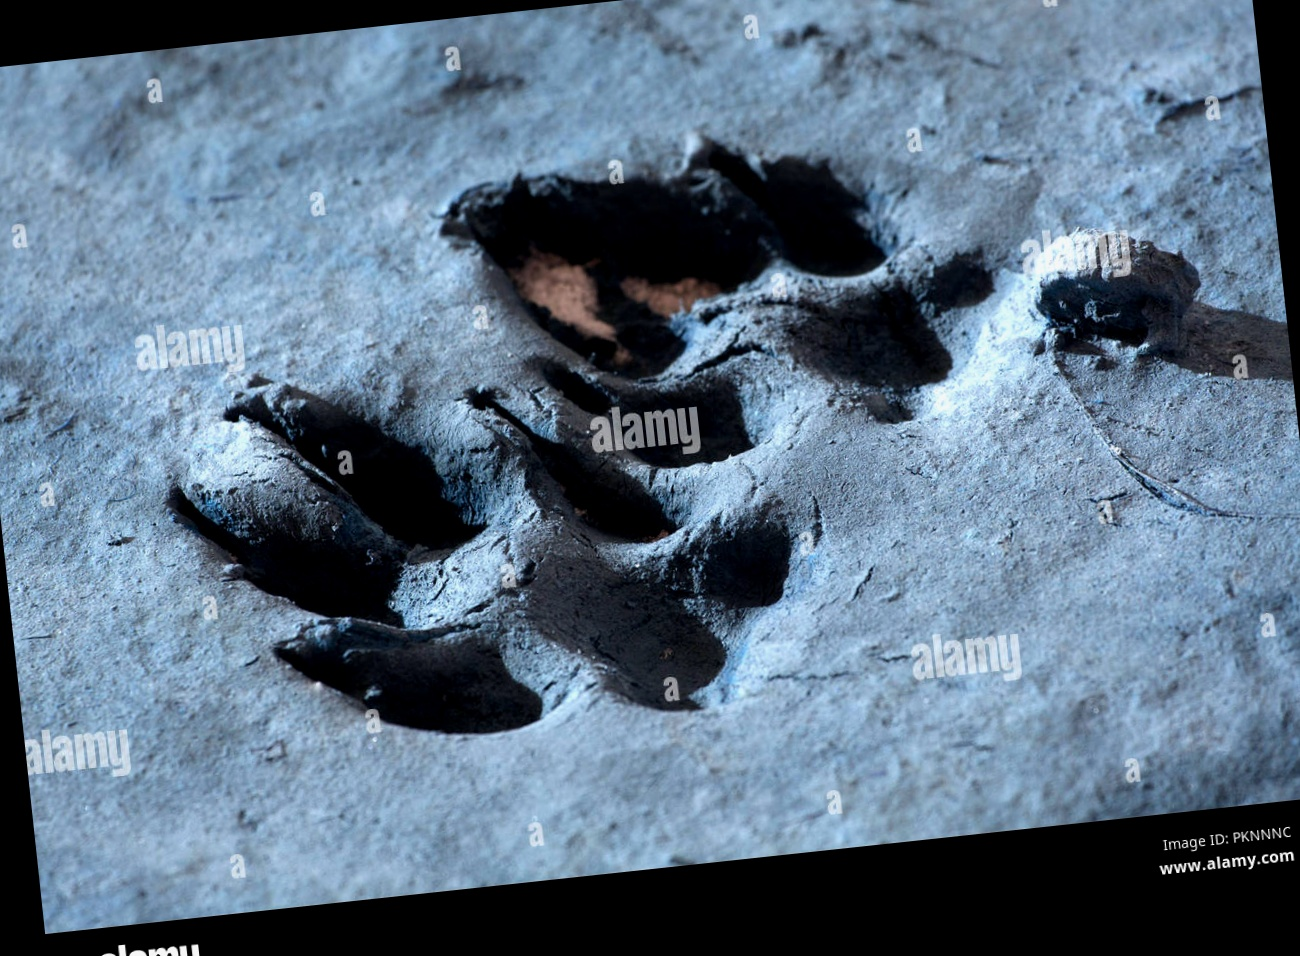loup: (116, 107, 1040, 737)
